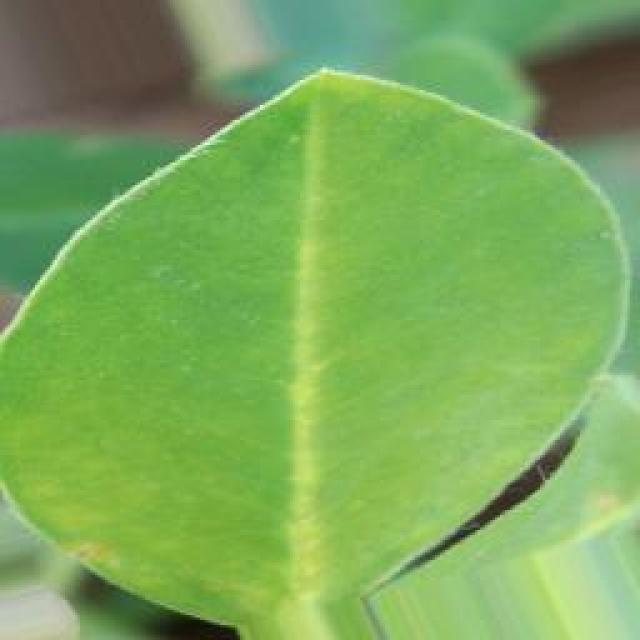Yellow_and_black_sigatoka: (6, 68, 627, 616)
